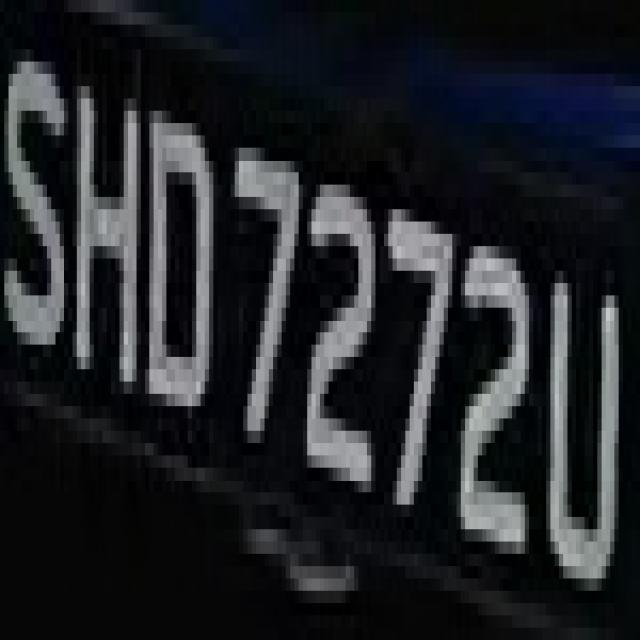2: (294, 111, 372, 554), (448, 209, 533, 603)
7: (371, 111, 452, 578), (226, 98, 295, 517)
D: (145, 74, 213, 468)
H: (68, 61, 145, 418)
S: (0, 24, 68, 406)
U: (538, 222, 627, 603)
